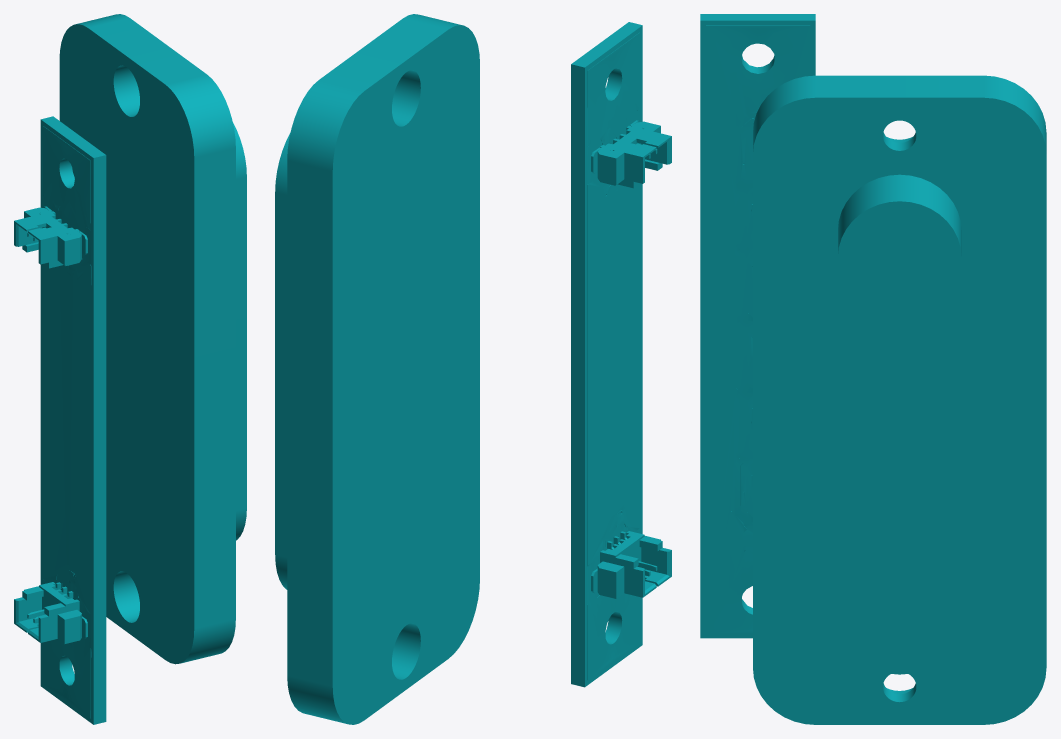
The model's file is torso_link_mat_17.obj.
3 renders of one model, left to right at view 1: azimuth 30°, elevation 25°; view 2: azimuth 150°, elevation 25°; view 3: azimuth 270°, elevation 25°, orthographic. The views are drawn at different scales.
Size of the model in its own units: 0.0308 by 0.066 by 0.033.
